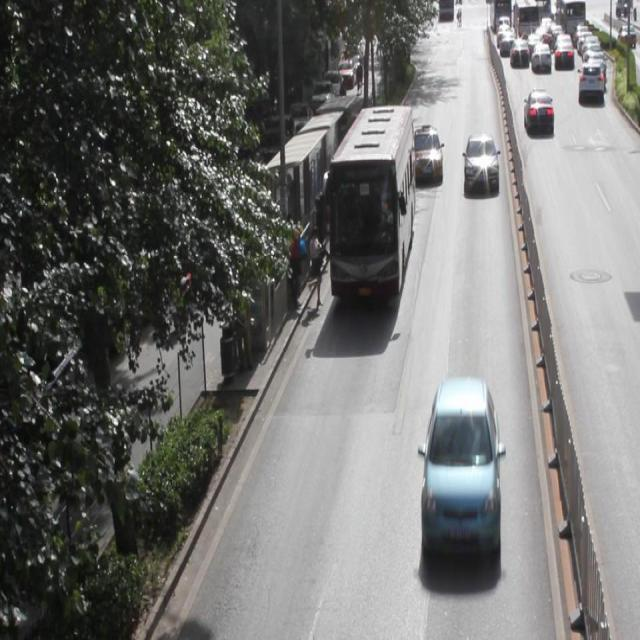BigCar: (330, 110, 413, 308)
car: (419, 378, 507, 576), (465, 124, 498, 200), (416, 117, 446, 184), (524, 88, 557, 134), (576, 62, 606, 106), (553, 39, 574, 68), (533, 43, 551, 72), (510, 42, 529, 68)
